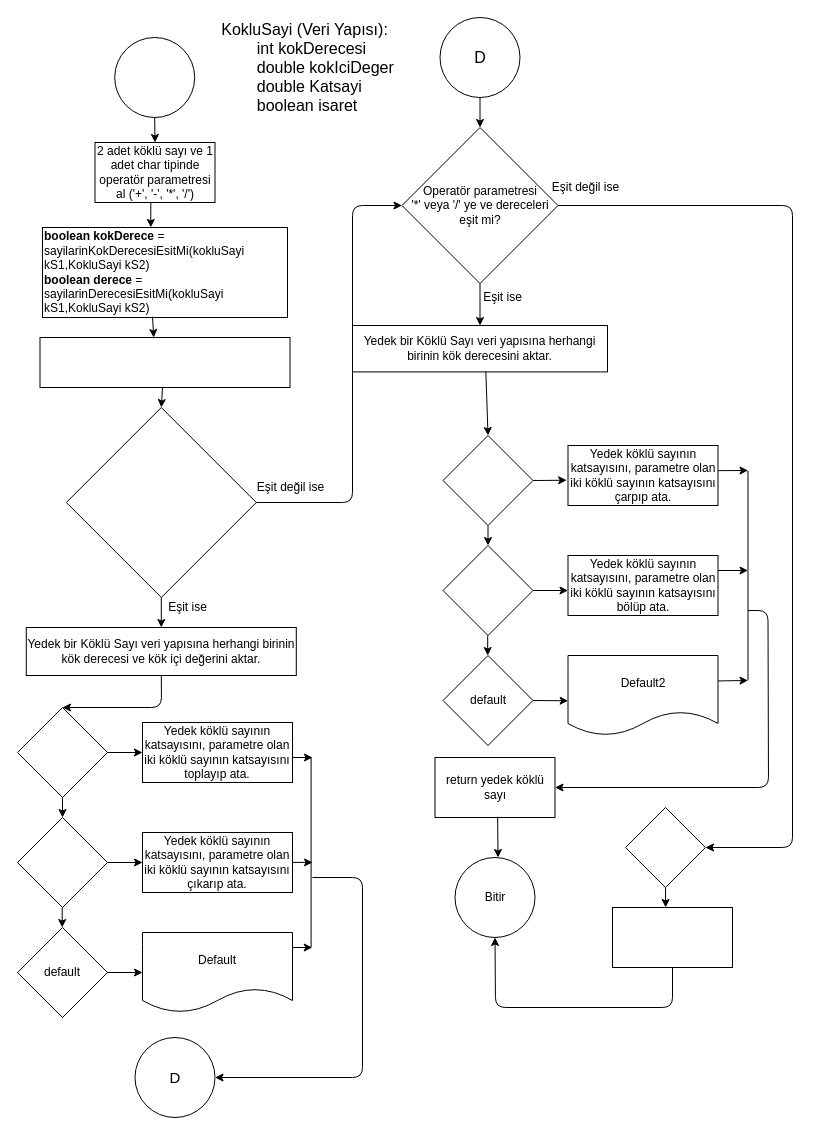
The diagram is 818 pixels wide and 1135 high, and some of its shapes have lost their labels. The shapes that lost their labels are listed below. From the top down, each one's box as (x1, y1, x2, y2) in pixels, then its label:
(114, 36, 195, 118): Başla
(39, 336, 290, 388): KokluSayi sonucKokluSayi = new KokluSayi()
(442, 434, 533, 526): operator == '*'
(65, 406, 256, 598): Operatör parametresi '+' veya '-' ye ve derece ve kök içi değerleri eşit mi?
(442, 544, 533, 636): operator == '/'
(16, 706, 108, 798): operator == '+'
(16, 816, 108, 908): operator == '-'
(624, 806, 706, 888): else
(612, 906, 732, 968): return null
